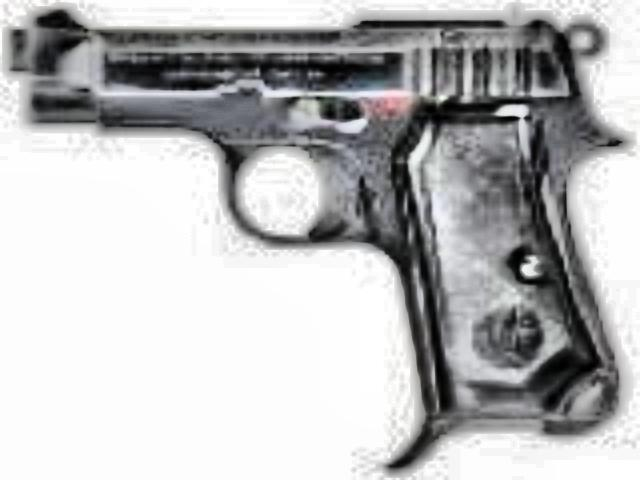pistol: (4, 0, 616, 436)
